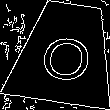O_N: (35, 24, 95, 82)
